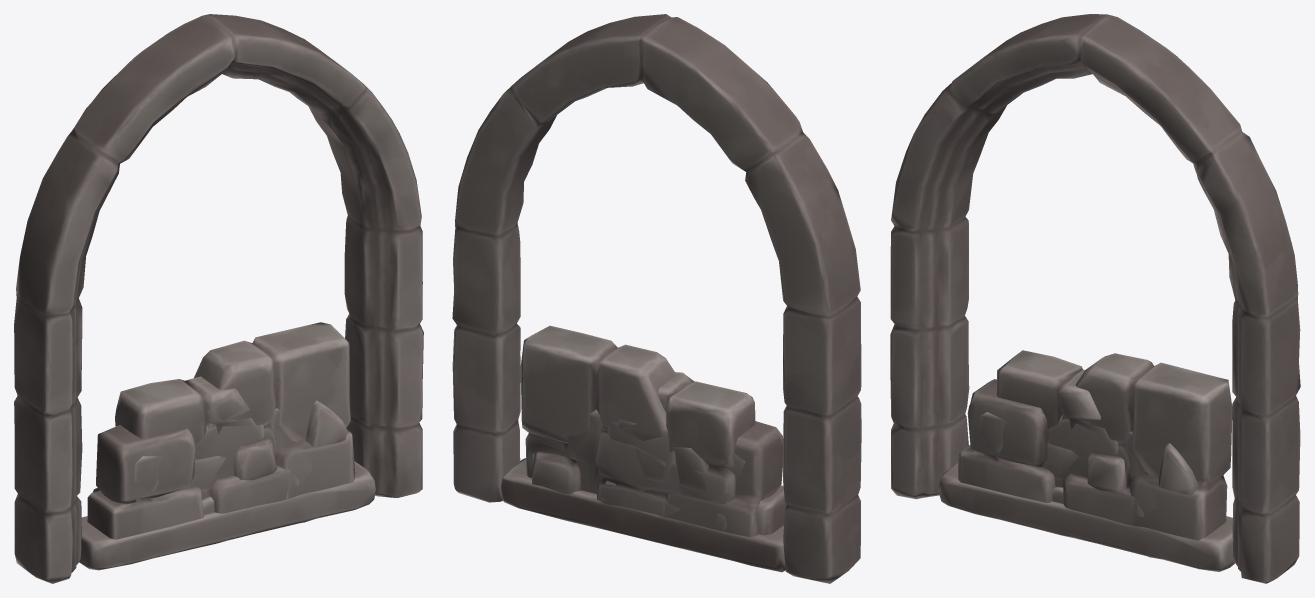
The model's file is ruins-kit.glb.
3 views of the same model, side by side, from view 1: azimuth 30°, elevation 25°; view 2: azimuth 150°, elevation 25°; view 3: azimuth 330°, elevation 25° (orthographic).
Visible parts, largest first — view 1: A3_Door1, A1_StoneWall5, A2_StoneWall4, A3_LongStone1, A2_StoneWall6; view 2: A3_Door1, A1_StoneWall5, A2_StoneWall4, A2_StoneWall6, A3_LongStone1; view 3: A3_Door1, A1_StoneWall5, A2_StoneWall4, A3_LongStone1, A2_StoneWall6.
Boxes of the visible parts, x1=… form: A3_Door1: x1=14, y1=14, x2=423, y2=583; A1_StoneWall5: x1=87, y1=322, x2=355, y2=539; A2_StoneWall4: x1=92, y1=400, x2=347, y2=513; A3_LongStone1: x1=79, y1=461, x2=375, y2=570; A2_StoneWall6: x1=115, y1=376, x2=276, y2=500; A3_Door1: x1=452, y1=14, x2=861, y2=583; A1_StoneWall5: x1=520, y1=325, x2=786, y2=535; A2_StoneWall4: x1=532, y1=409, x2=783, y2=537; A2_StoneWall6: x1=600, y1=372, x2=755, y2=531; A3_LongStone1: x1=500, y1=458, x2=785, y2=572; A3_Door1: x1=890, y1=14, x2=1300, y2=583; A1_StoneWall5: x1=958, y1=353, x2=1232, y2=559; A2_StoneWall4: x1=967, y1=379, x2=1197, y2=525; A3_LongStone1: x1=938, y1=462, x2=1234, y2=571; A2_StoneWall6: x1=996, y1=350, x2=1126, y2=492.
Size of the model in its own units: 4.02 by 5.11 by 0.6193.
3 materials, 3 textured.
